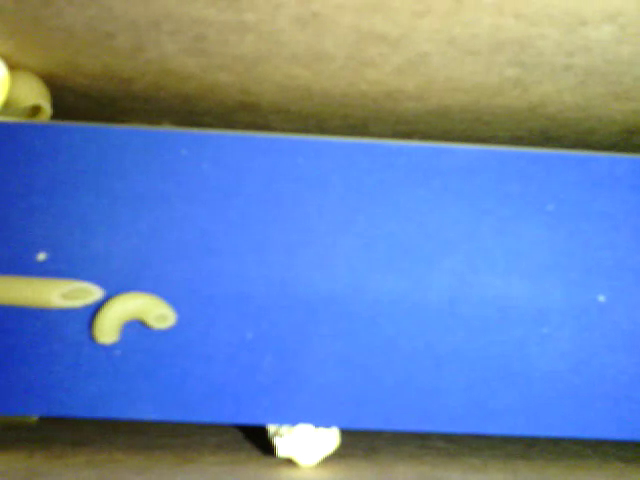elbow: (87, 288, 177, 350)
penne: (2, 272, 107, 310)
shell: (1, 66, 53, 125)
